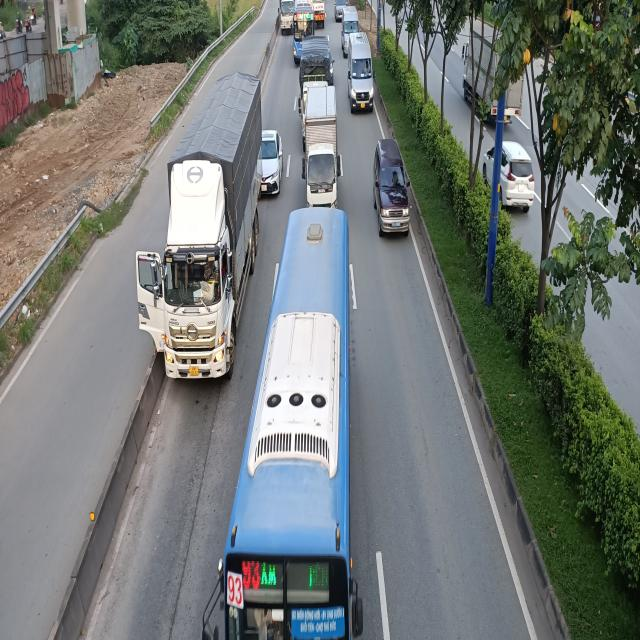car: (374, 138, 412, 238), (262, 128, 284, 194), (336, 0, 348, 21)
coach: (214, 206, 362, 636)
truck: (152, 75, 263, 383), (302, 85, 341, 208), (279, 0, 295, 34)
van: (346, 33, 376, 116), (342, 4, 358, 50)
